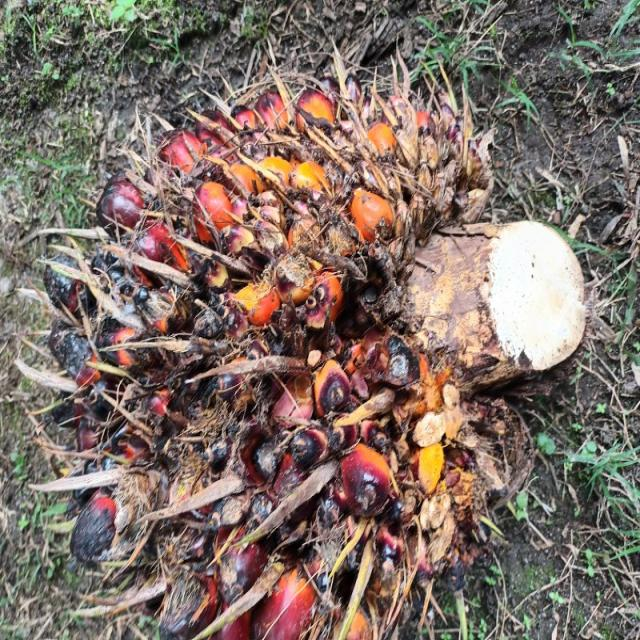fraksi 1: (11, 40, 457, 640)
